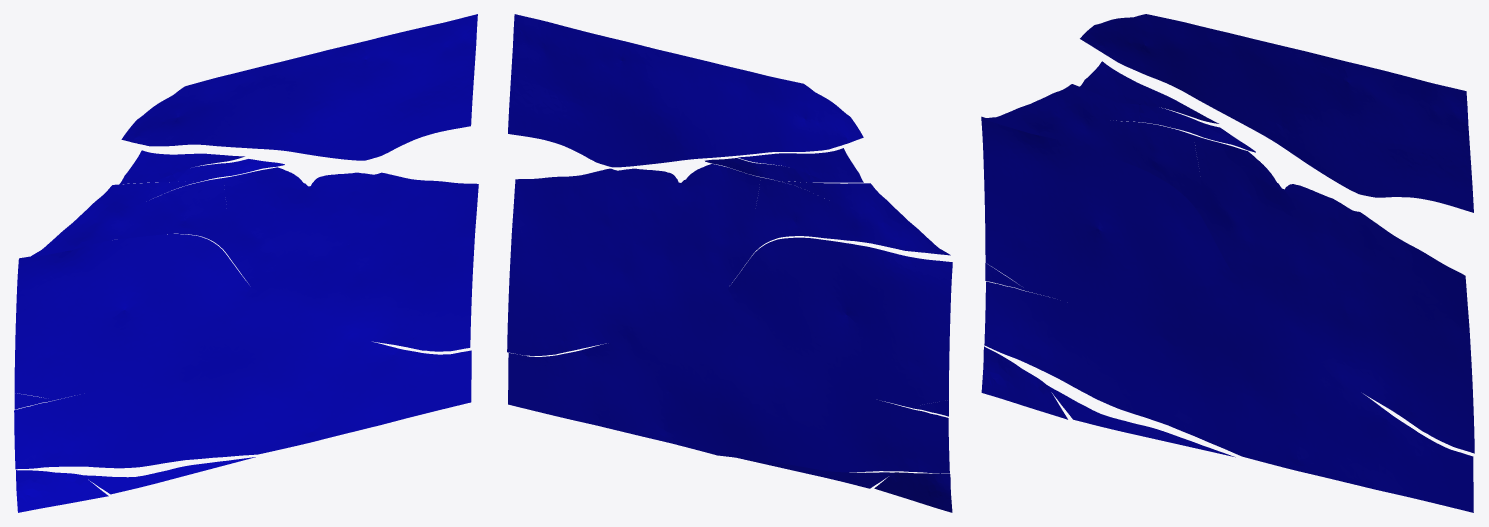
Rendered from 07_HumphCoal_50m_GGERFS_Predrill.gltf.
3 views of the same model, side by side, from view 1: azimuth 30°, elevation 25°; view 2: azimuth 150°, elevation 25°; view 3: azimuth 330°, elevation 25° (orthographic). The views are drawn at different scales.
Parts seen in each view (by area): view 1: 07_HUMPHCOAL_50M_GGERFS_PREDRILL; view 2: 07_HUMPHCOAL_50M_GGERFS_PREDRILL; view 3: 07_HUMPHCOAL_50M_GGERFS_PREDRILL.
Part boxes in pixels (x1,y1,x2,y2): 07_HUMPHCOAL_50M_GGERFS_PREDRILL: (14,14,478,512); 07_HUMPHCOAL_50M_GGERFS_PREDRILL: (507,14,952,512); 07_HUMPHCOAL_50M_GGERFS_PREDRILL: (981,14,1474,512).
Size of the model in its own units: 5005 by 4150 by 222.
